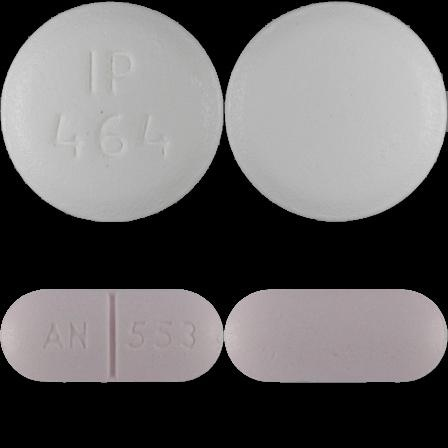63187-489: (0, 0, 224, 224)
